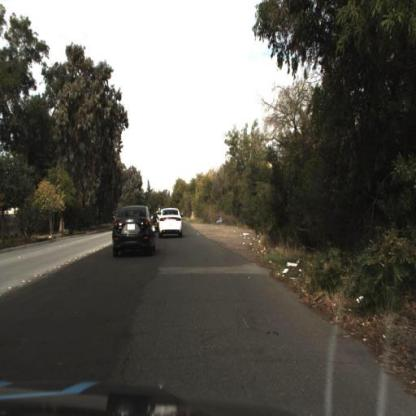car: (109, 198, 159, 270), (156, 201, 187, 244), (158, 207, 185, 240)
